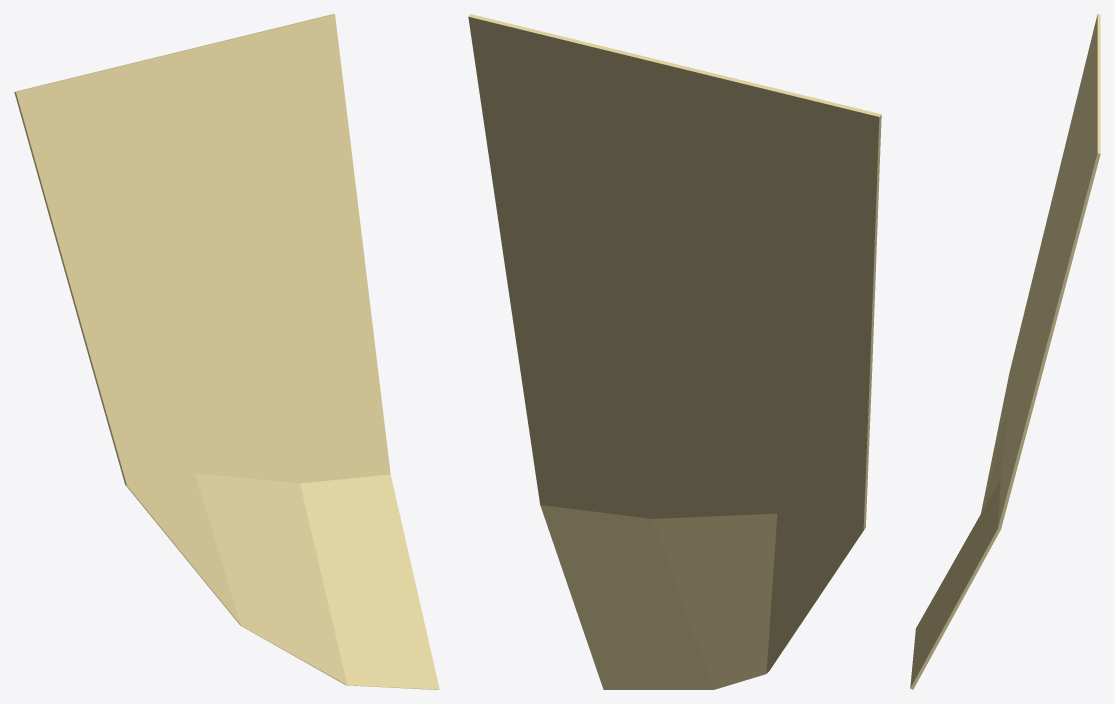
Rendered from House door rag.fbx.
The picture shows the model from 3 angles, left to right: view 1: azimuth 30°, elevation 25°; view 2: azimuth 150°, elevation 25°; view 3: azimuth 270°, elevation 25°; orthographic projection. The views are drawn at different scales.
Visible parts, largest first — view 1: House door rag; view 2: House door rag; view 3: House door rag.
Part boxes in pixels (<box>): House door rag: <box>14,14,439,689</box>; House door rag: <box>468,14,881,689</box>; House door rag: <box>910,14,1100,689</box>.
Bounding box in the file's own units: 99.49 × 179 × 57.51.
